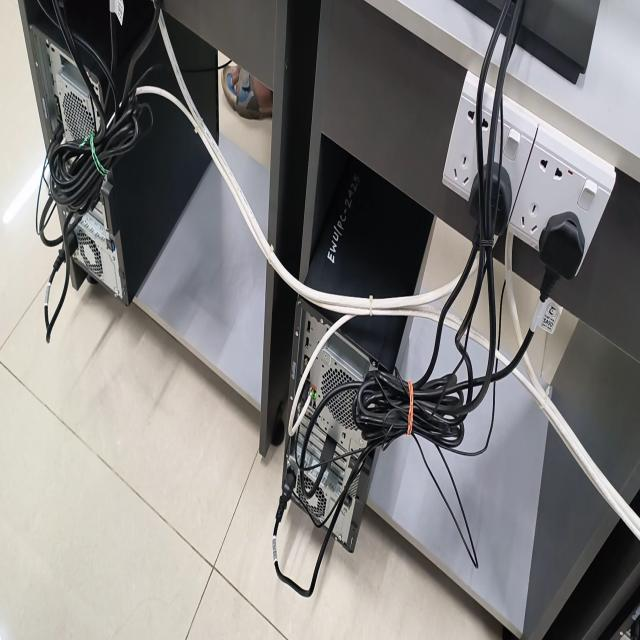Cpu: (278, 158, 442, 557), (31, 0, 218, 307)
